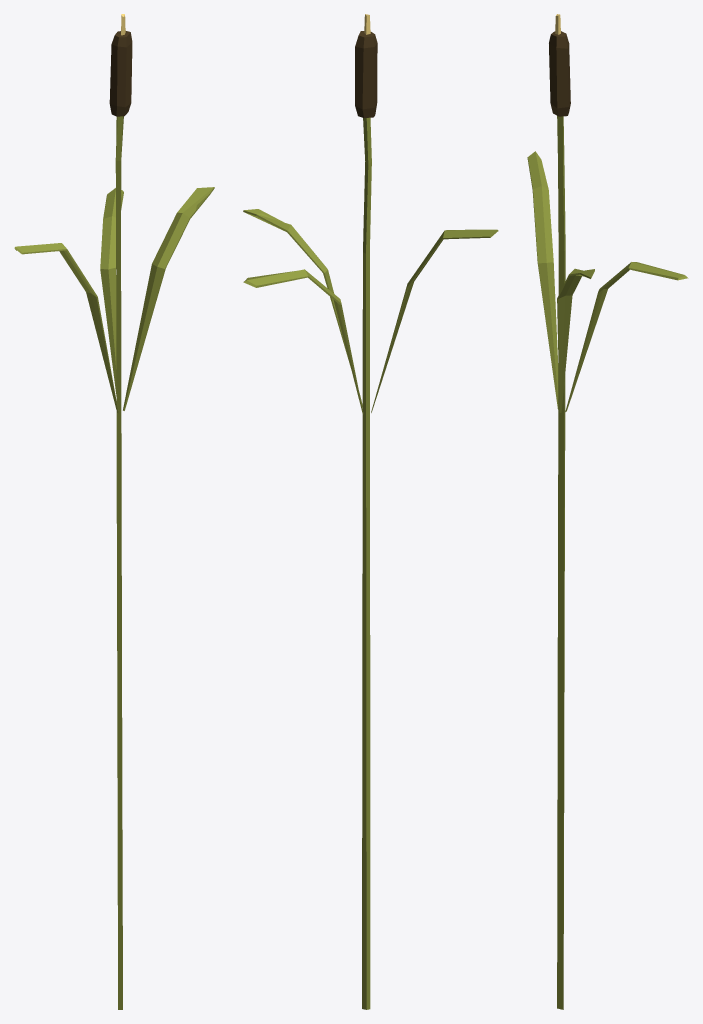
The model's file is Reed_1.fbx.
3 views of the same model, side by side, from view 1: azimuth 30°, elevation 25°; view 2: azimuth 150°, elevation 25°; view 3: azimuth 270°, elevation 25° (orthographic).
Parts seen in each view (by area): view 1: Reed_1; view 2: Reed_1; view 3: Reed_1.
Part boxes in pixels (x1,y1,x2,y2): Reed_1: (14, 14, 214, 1009); Reed_1: (243, 14, 498, 1009); Reed_1: (527, 14, 688, 1009).
Bounding box in the file's own units: 0.0298 × 0.1241 × 0.0182.
Materials: 1 (1 with a texture image).
